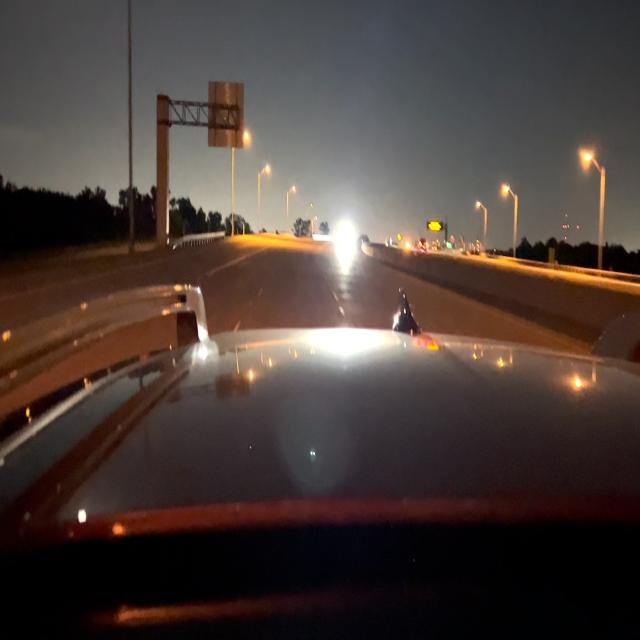back-of-sign: (207, 77, 244, 146)
